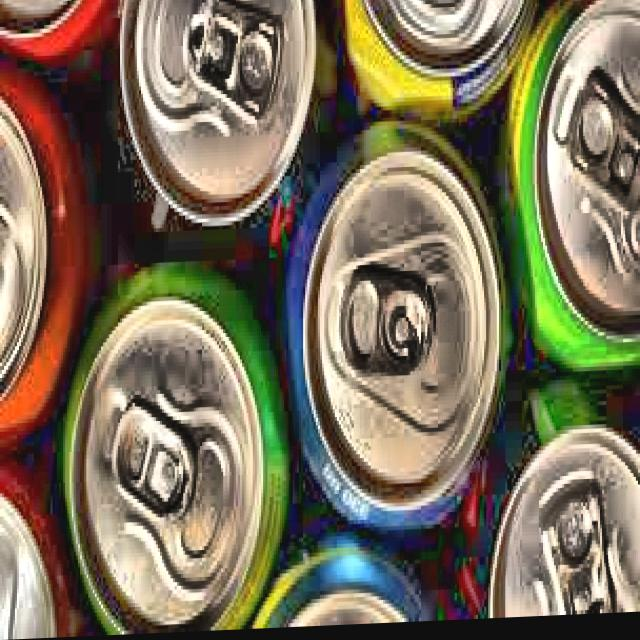can: (286, 103, 518, 550), (61, 252, 291, 638), (499, 0, 640, 400), (112, 0, 326, 247), (463, 377, 640, 624), (0, 58, 107, 463), (329, 0, 544, 132), (248, 528, 446, 631), (0, 444, 85, 640), (0, 0, 118, 69)
